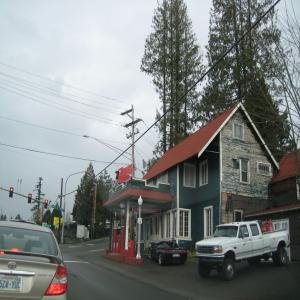Vehicle-registration-plate: (1, 276, 23, 293), (173, 254, 181, 260)
